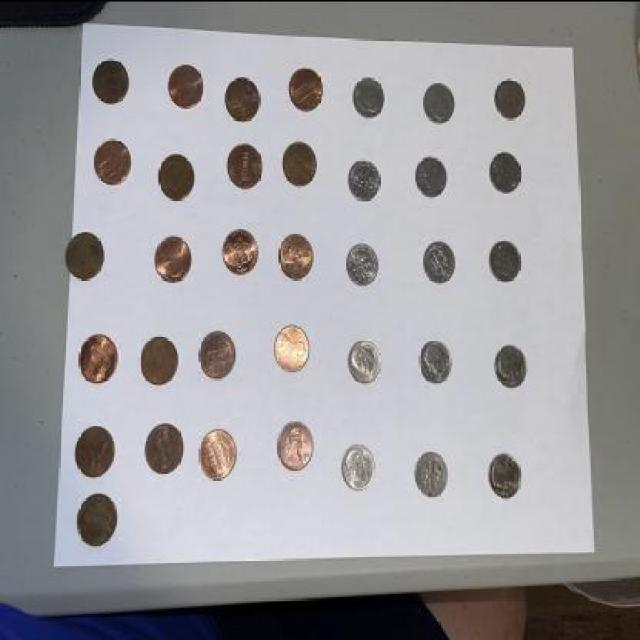Dime: (411, 446, 451, 502), (488, 232, 522, 290), (484, 452, 524, 500), (340, 440, 377, 491), (417, 338, 454, 386), (492, 343, 530, 389), (489, 146, 523, 197), (416, 152, 450, 202), (346, 238, 380, 288), (348, 154, 383, 202), (348, 337, 383, 385), (422, 237, 458, 283), (352, 73, 388, 119), (422, 80, 458, 123), (494, 78, 528, 115)
Penny: (71, 423, 117, 480), (92, 133, 136, 190), (77, 494, 120, 551), (138, 334, 182, 389), (64, 228, 108, 283), (144, 420, 187, 476), (77, 328, 120, 384), (90, 54, 132, 110), (152, 230, 195, 284), (275, 417, 317, 472), (282, 136, 322, 190), (200, 326, 240, 379), (278, 228, 318, 280), (222, 226, 260, 279), (168, 61, 205, 114), (157, 150, 197, 198), (202, 428, 238, 480), (224, 75, 262, 123), (276, 323, 312, 372), (228, 140, 264, 189), (289, 66, 326, 112)
